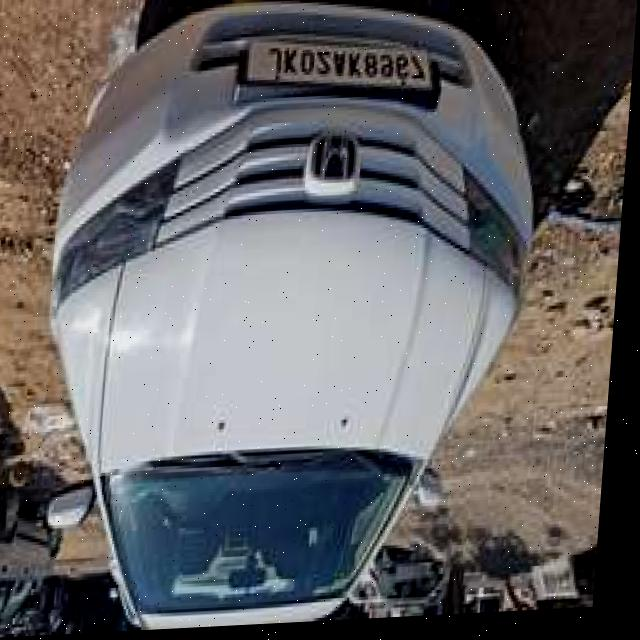plate: (240, 33, 436, 104)
